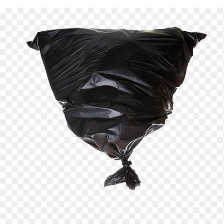plastic_bag: (22, 23, 211, 192)
